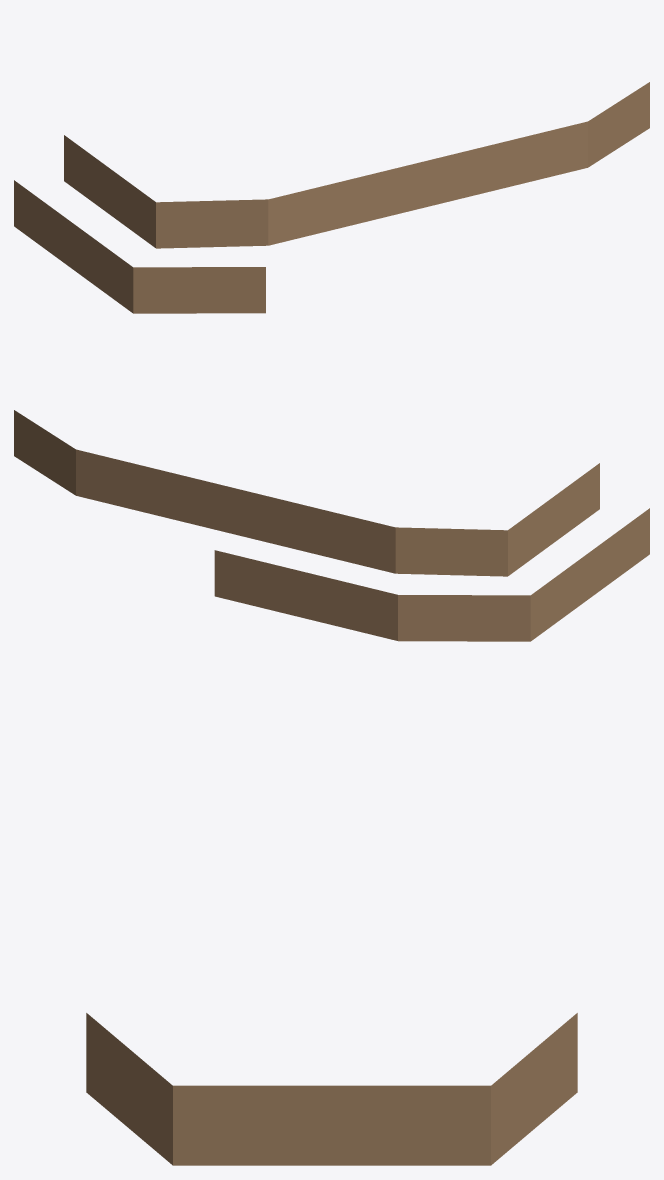
Rendered from 1442-Buildings-shell-pieces-facade-bay-wall-round-an-opening-reveals-sill-head-emitBa.glb.
3 views of the same model, one above another, from view 1: azimuth 30°, elevation 25°; view 2: azimuth 150°, elevation 25°; view 3: azimuth 270°, elevation 25° (orthographic). The views are drawn at different scales.
Visible parts, largest first — view 1: emitBay; view 2: emitBay; view 3: emitBay.
Part boxes in pixels (bbox=[...]): emitBay: bbox=[14, 82, 649, 313]; emitBay: bbox=[14, 410, 649, 641]; emitBay: bbox=[86, 1013, 577, 1165].
Size of the model in its own units: 36.5 by 6.1 by 22.
